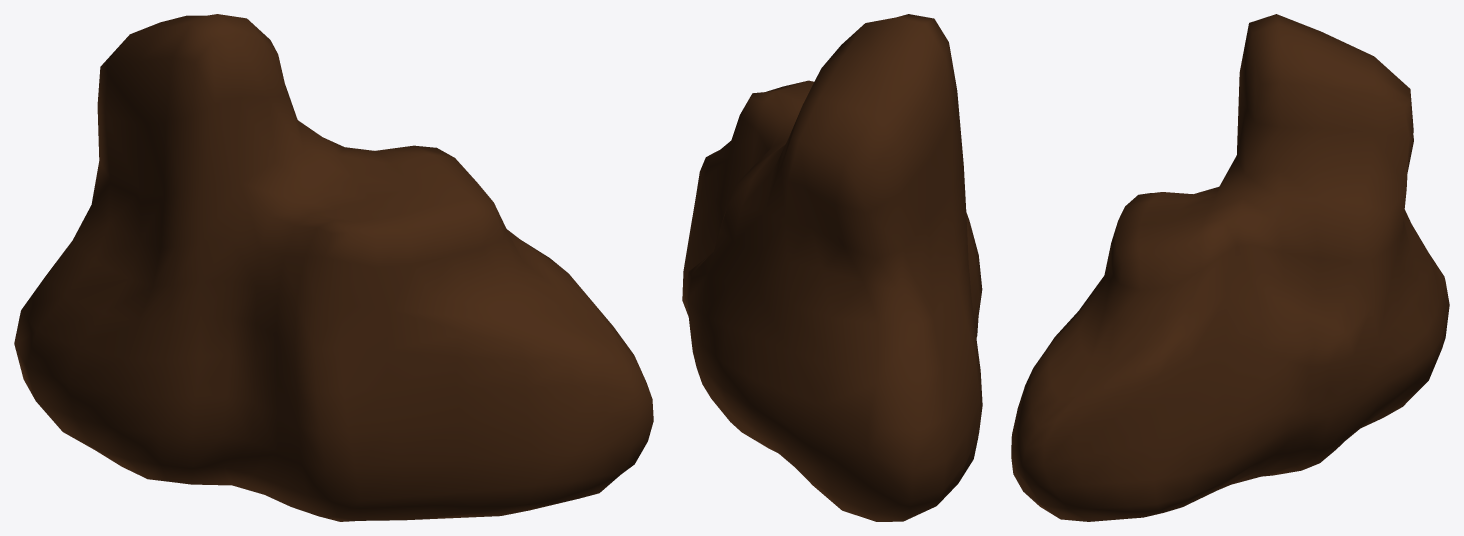
The model's file is rock_3.fbx.
3 renders of one model, left to right at view 1: azimuth 30°, elevation 25°; view 2: azimuth 150°, elevation 25°; view 3: azimuth 270°, elevation 25°, orthographic. The views are drawn at different scales.
Parts seen in each view (by area): view 1: Cube.001; view 2: Cube.001; view 3: Cube.001.
Part boxes in pixels (<box>): Cube.001: <box>14,14,653,521</box>; Cube.001: <box>682,14,982,521</box>; Cube.001: <box>1011,14,1449,521</box>.
Bounding box in the file's own units: 113 × 119 × 118.
